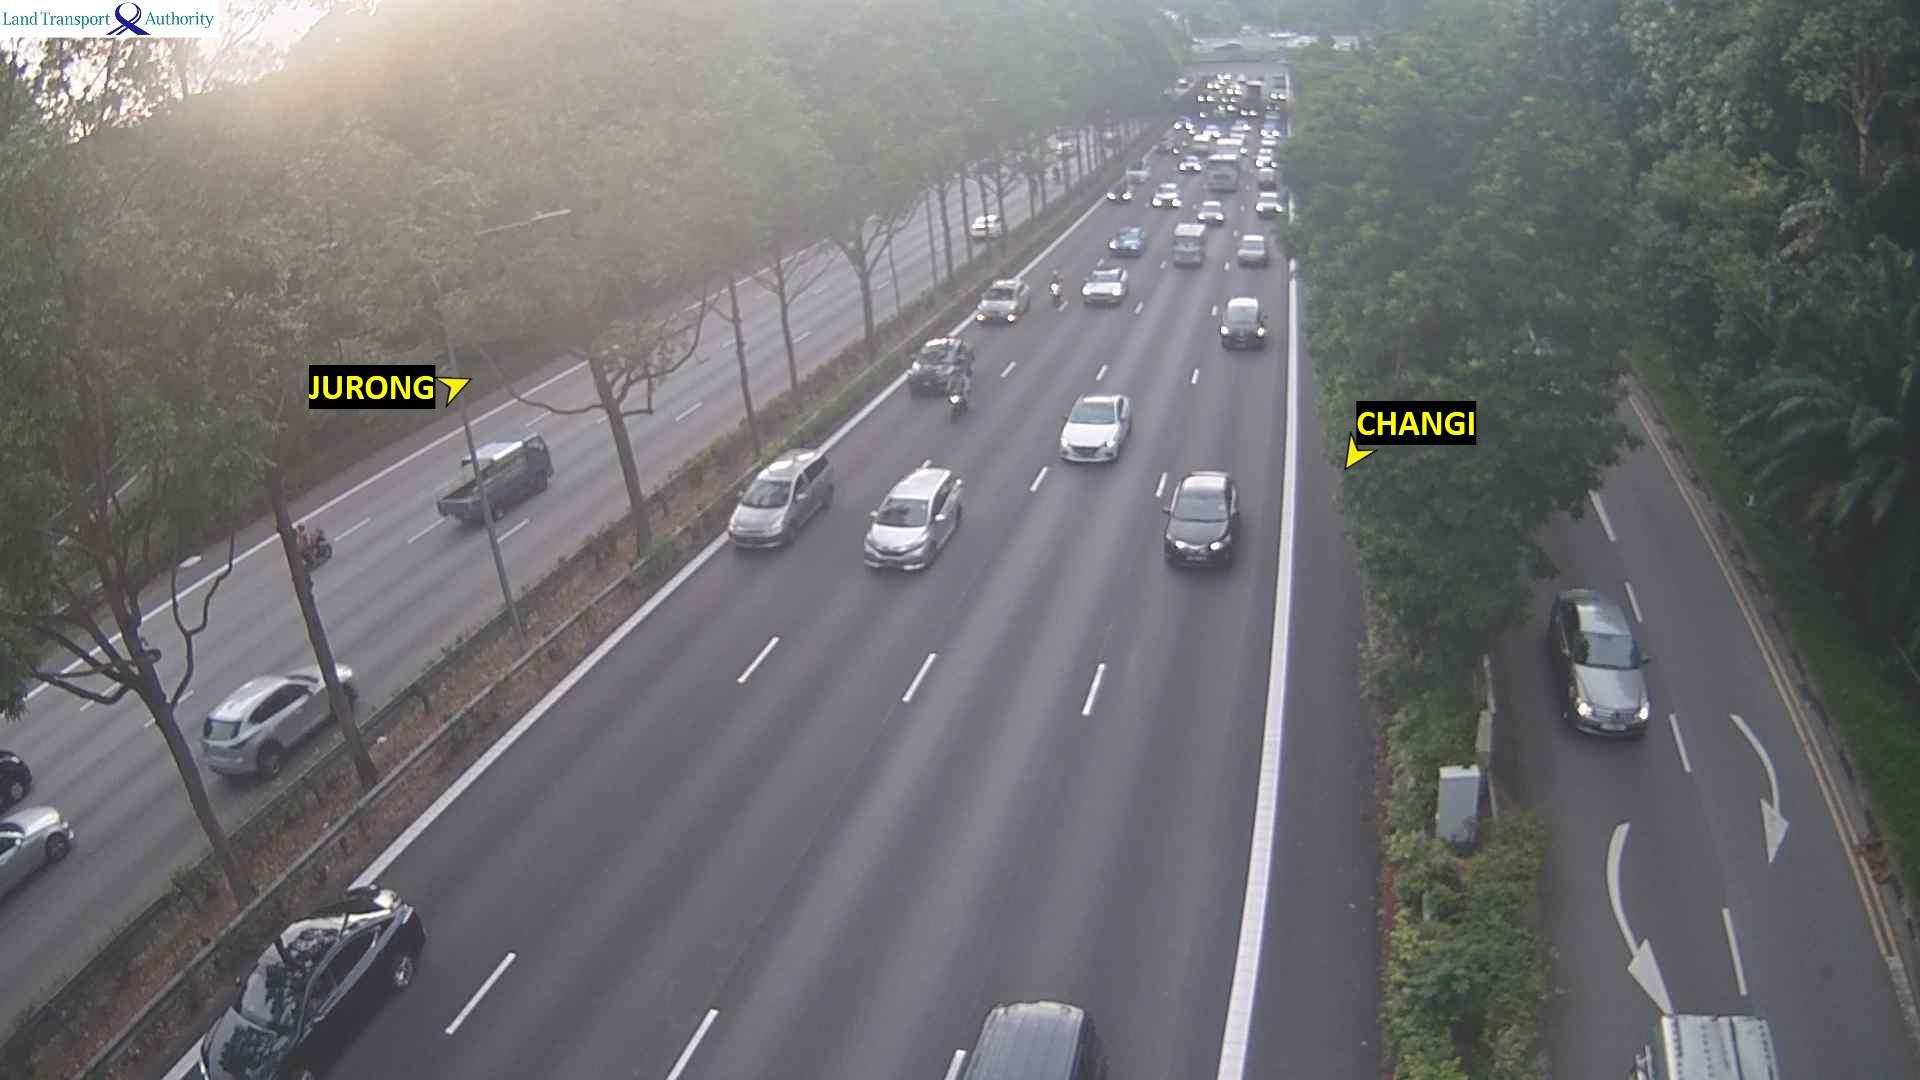incoming: (200, 960, 313, 1080), (1569, 630, 1652, 738), (861, 495, 948, 574), (1163, 491, 1238, 570), (731, 476, 808, 549), (1059, 402, 1122, 467), (910, 344, 957, 394), (1220, 303, 1266, 353), (975, 282, 1022, 324), (1081, 269, 1125, 305), (1105, 228, 1145, 258), (1236, 236, 1270, 270), (1207, 157, 1241, 191), (1171, 233, 1204, 266), (1151, 185, 1184, 212), (1254, 191, 1283, 218), (1196, 200, 1228, 224), (1104, 186, 1133, 208), (1122, 160, 1150, 182), (1175, 158, 1199, 175)
